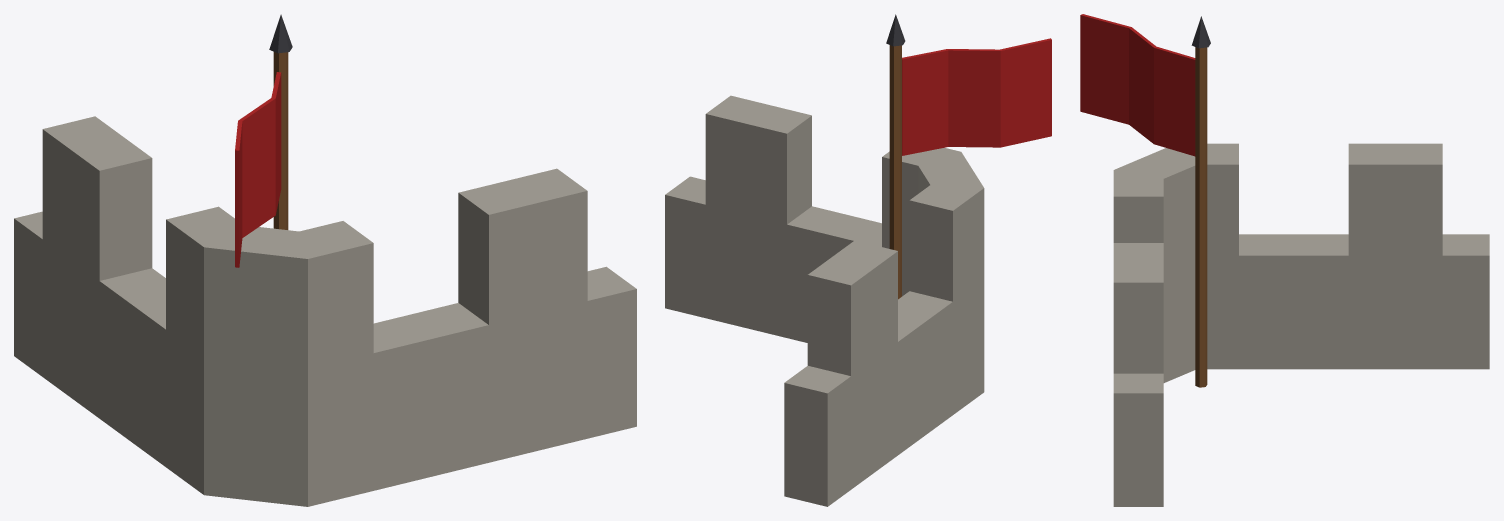
The model's file is Wieza_Szczyt_Choragiew.fbx.
3 views of the same model, side by side, from view 1: azimuth 30°, elevation 25°; view 2: azimuth 150°, elevation 25°; view 3: azimuth 270°, elevation 25° (orthographic). The views are drawn at different scales.
Visible parts, largest first — view 1: Wieza_Szczyt_Choragiew; view 2: Wieza_Szczyt_Choragiew; view 3: Wieza_Szczyt_Choragiew.
Boxes of the visible parts, x1,y1,x2,y2 form: Wieza_Szczyt_Choragiew: [14, 14, 636, 506]; Wieza_Szczyt_Choragiew: [665, 14, 1051, 506]; Wieza_Szczyt_Choragiew: [1080, 14, 1489, 506].
Bounding box in the file's own units: 3.19 × 3.25 × 3.27.
